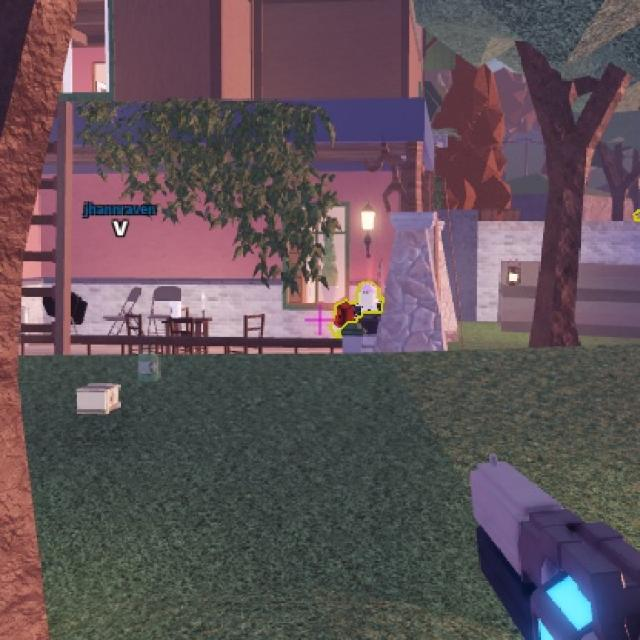player: (342, 274, 385, 335)
